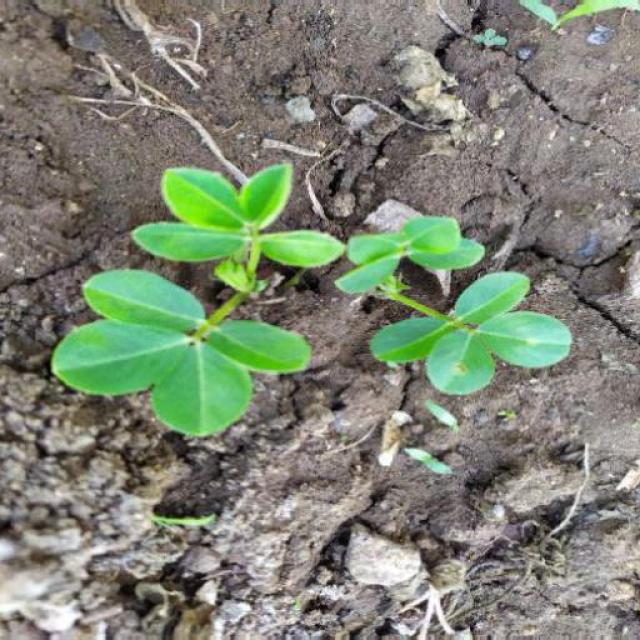weed: (46, 149, 580, 469)
